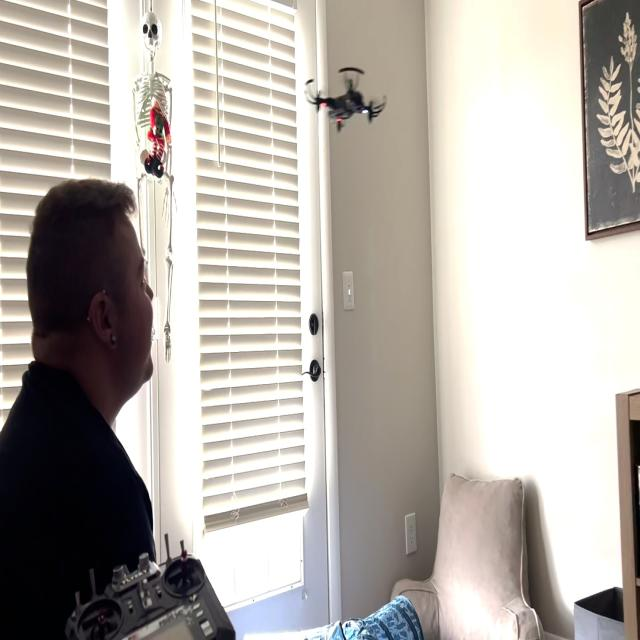drone: (295, 58, 391, 140)
